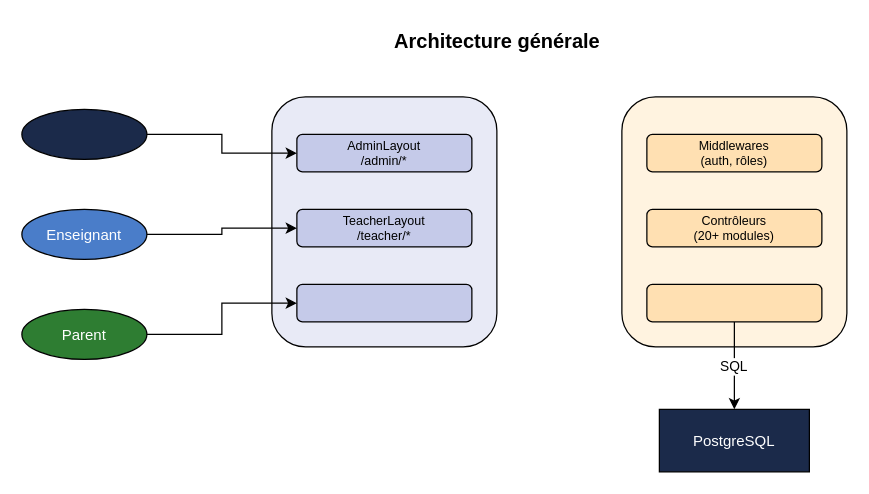
The diagram is 869 pixels wide and 494 high, and some of its shapes have lost their labels. Here are the shapes that lost their labels. From the top down, the box of each, then its label:
(21, 108, 147, 159): Administrateur
(621, 96, 847, 347): API REST Express / TypeScript
(296, 283, 472, 322): ParentLayout /parent/*
(646, 283, 822, 322): Prisma ORM
